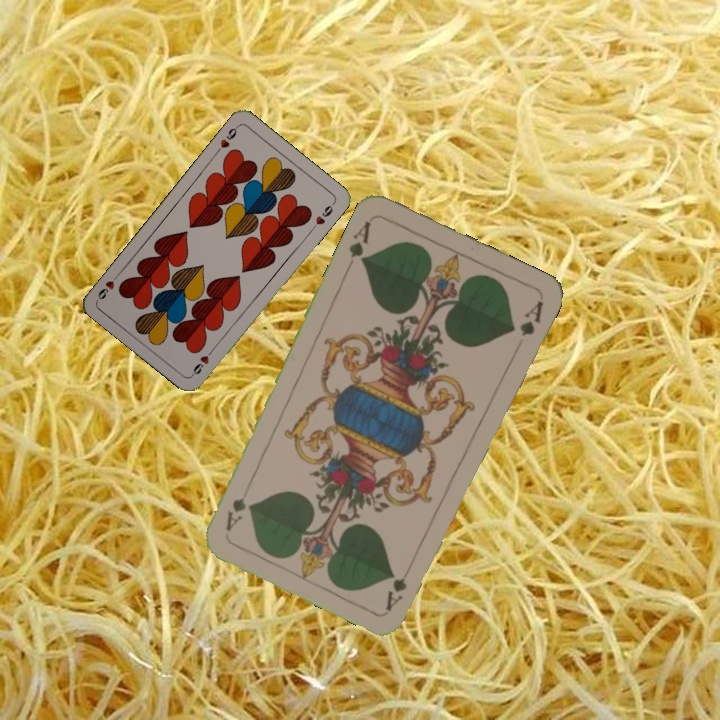GA: (381, 557, 417, 613), (344, 217, 373, 266)
H9: (212, 121, 242, 156), (188, 344, 217, 379)
